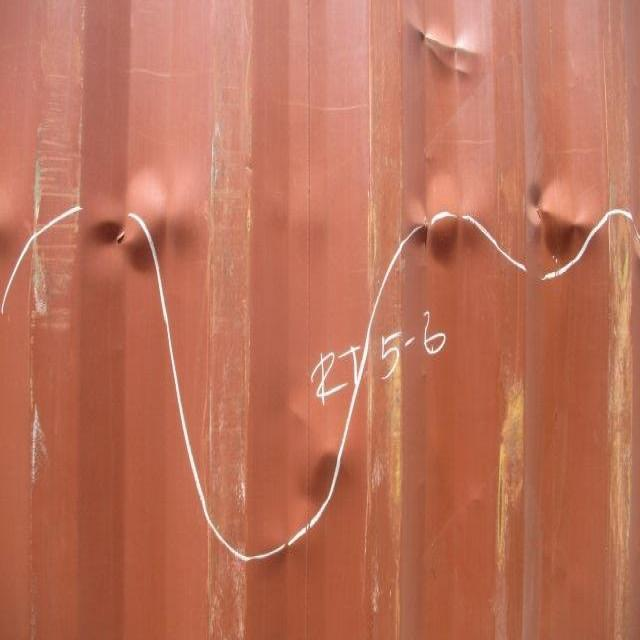Minor-Dent: (390, 152, 625, 293), (240, 406, 376, 578), (64, 163, 227, 295), (395, 11, 504, 99)
